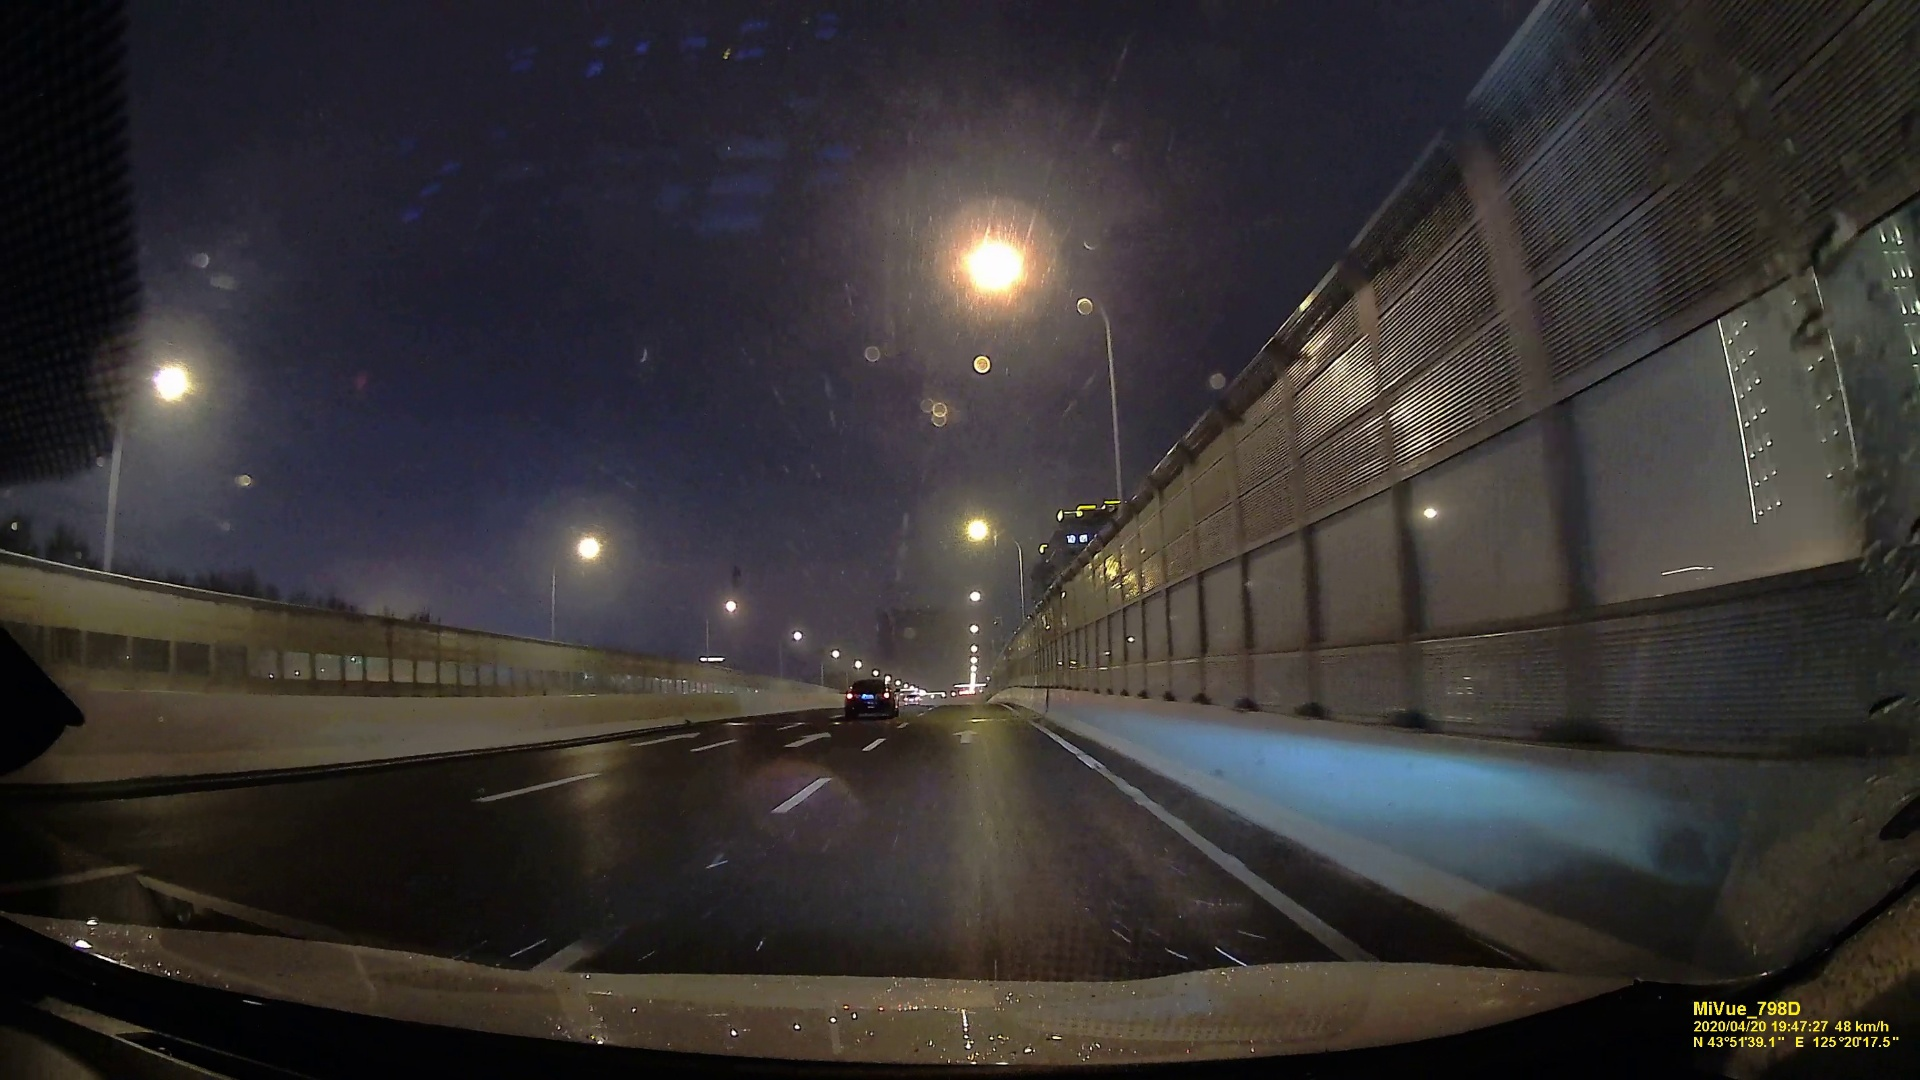vehicle: (843, 678, 899, 720)
